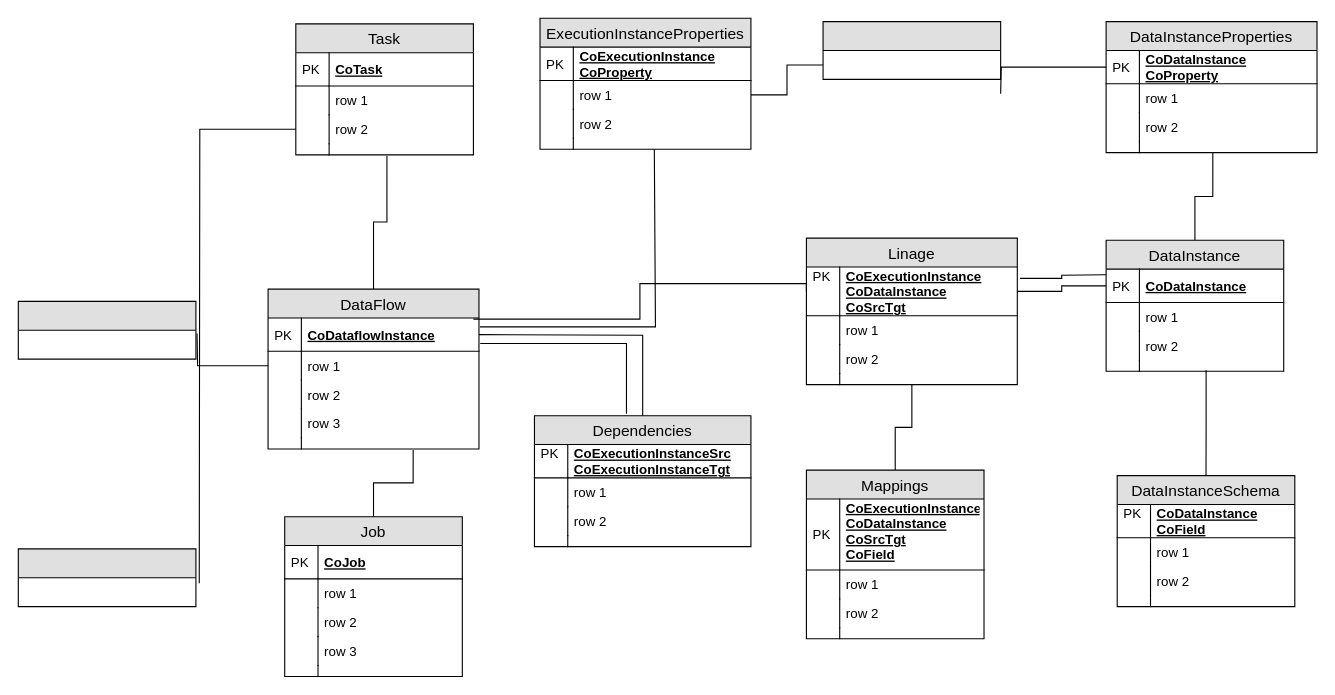
This 1335x695 diagram has some shape labels left out. The centre of each missing label's shape, as x and y in pixels:
DataFlowType: point (106, 329)
PopertyType: point (911, 50)
TaskType: point (106, 577)
